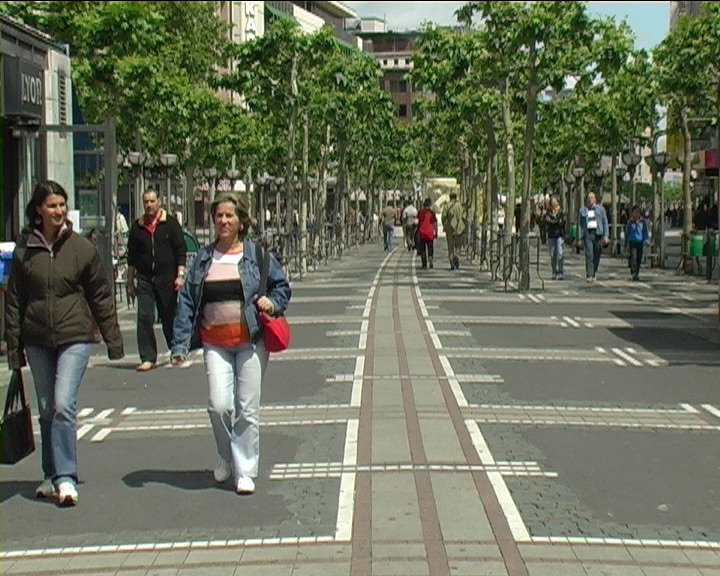deflection: (19, 185, 98, 286)
